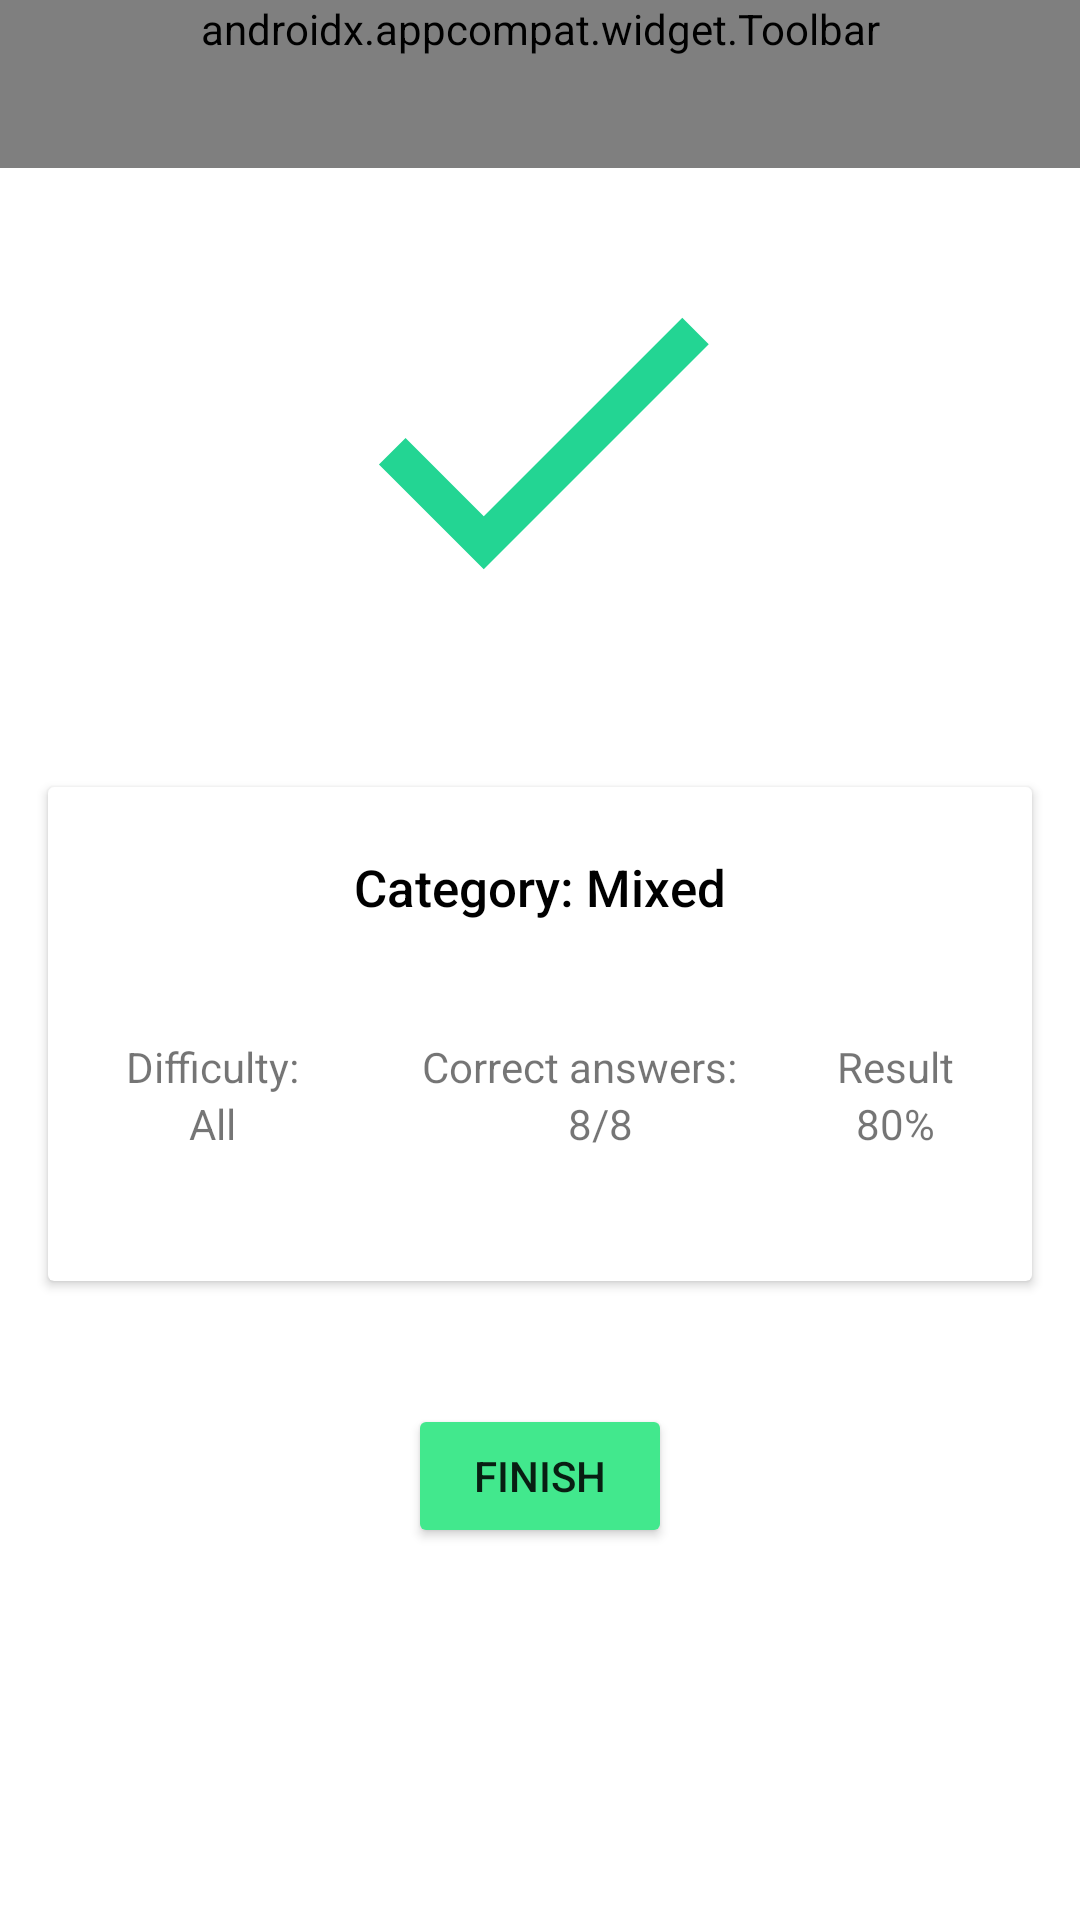

Locate icon controls on the screen. Image size 1080×1920, boxes as [x1,y1,x2,y2].
check: [379,318,709,569]
